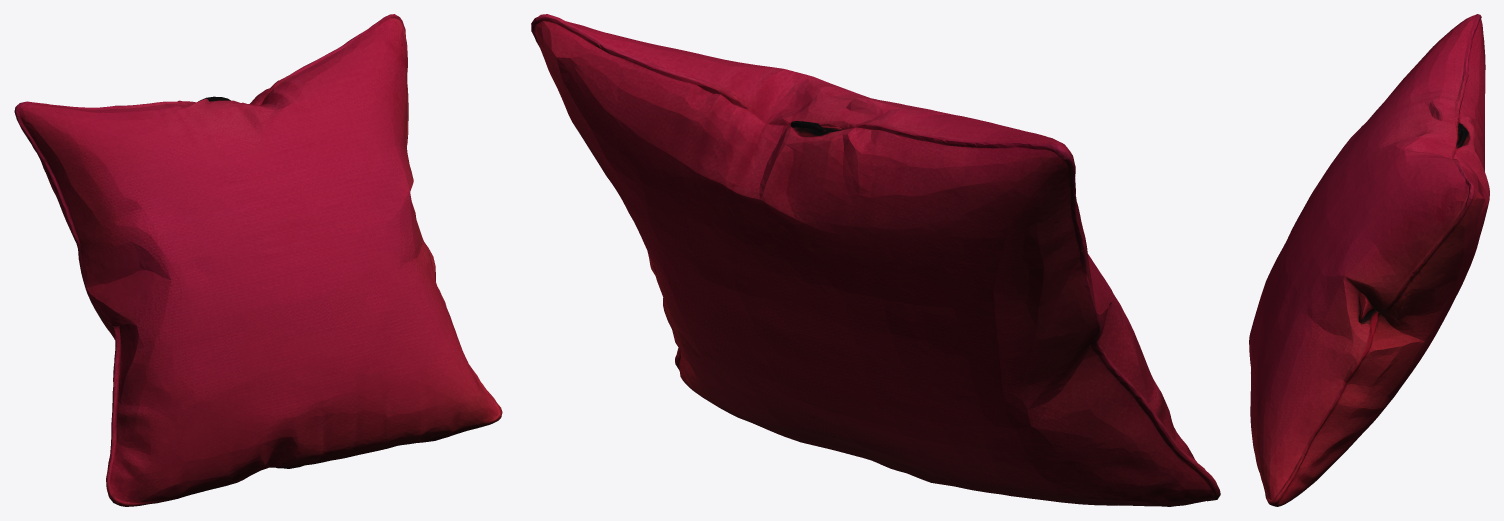
The picture shows the model from 3 angles, left to right: view 1: azimuth 30°, elevation 25°; view 2: azimuth 150°, elevation 25°; view 3: azimuth 270°, elevation 25°; orthographic projection. The views are drawn at different scales.
Parts seen in each view (by area): view 1: world; view 2: world; view 3: world.
Boxes of the visible parts, x1=… form: world: x1=14, y1=14, x2=502, y2=506; world: x1=531, y1=14, x2=1220, y2=506; world: x1=1249, y1=14, x2=1489, y2=506.
Bounding box in the file's own units: 0.9979 × 0.8302 × 0.5509.
1 material, 1 textured.
